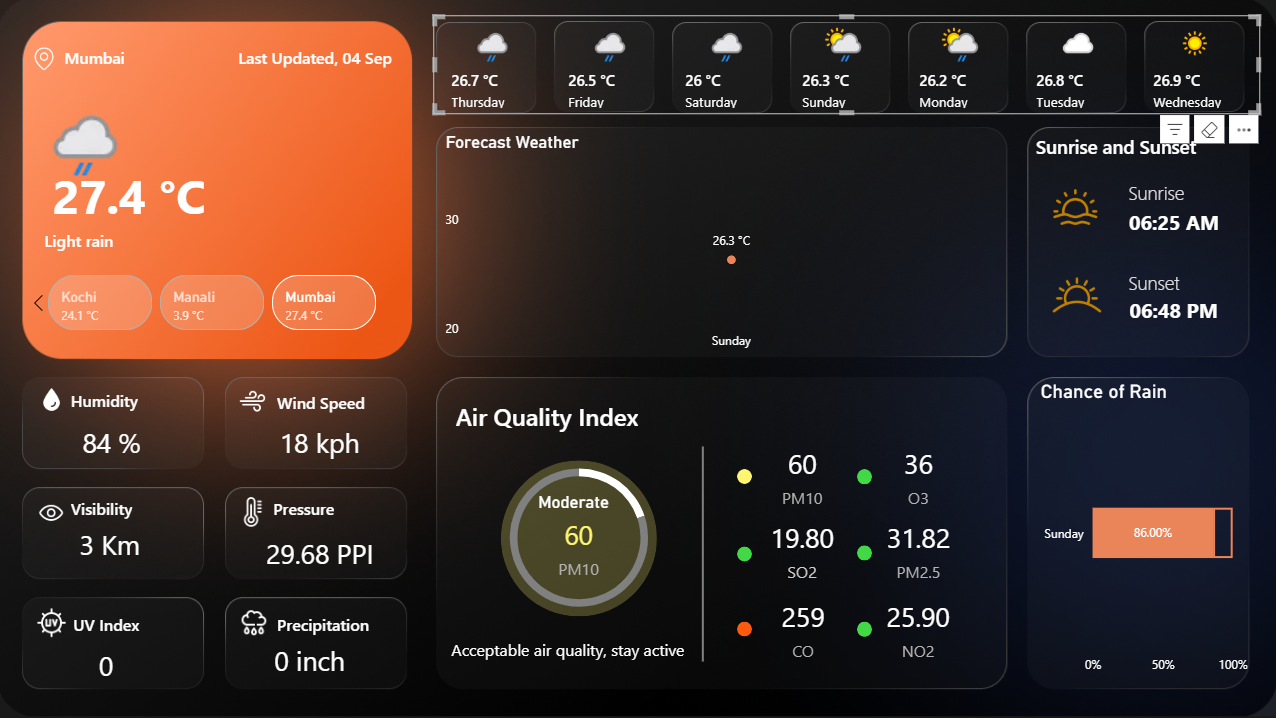

Layout of this report page (visuals, bound fields, positions):
{"tool":"powerbi","page":{"name":"Page 1","canvas":[1280,720],"ordinal":0},"visuals":[{"type":"advancedSlicerVisual","fields":{"Values":["Location.location.name"]},"box":[26.1,271.7,378.7,65.9],"z":0},{"type":"shape","box":[47.1,163.3,168.9,63.7],"z":1000},{"type":"shape","box":[47.1,227,155,27.7],"z":2000},{"type":"shape","box":[67.8,40.1,155,36],"z":3000},{"type":"shape","box":[240.8,44.3,164.7,27.7],"z":4000},{"type":"image","box":[26.3,44.3,41.5,31.8],"z":5000},{"type":"cardVisual","fields":{"Data":["Min(Current.current.condition.icon)"]},"box":[25.8,75.8,117.7,106.4],"z":6000},{"type":"image","box":[33.3,384.2,41.7,34.2],"z":7000},{"type":"image","box":[236.7,384.2,39.2,36.7],"z":8000},{"type":"image","box":[34.2,495,40,37.5],"z":9000},{"type":"image","box":[236.7,492.5,39.2,40],"z":10000},{"type":"image","box":[33.3,604.2,41.7,40],"z":11000},{"type":"image","box":[234.2,604.2,45.8,40],"z":12000},{"type":"shape","box":[74.2,387.5,69.2,27.5],"z":13000},{"type":"shape","box":[280,389.2,89.2,27.5],"z":14000},{"type":"shape","box":[74.2,495,69.2,27.5],"z":15000},{"type":"shape","box":[275.8,495,69.2,27.5],"z":16000},{"type":"shape","box":[75.8,610.8,69.2,27.5],"z":17000},{"type":"shape","box":[280,610.8,100,27.5],"z":18000},{"type":"card","fields":{"Values":["_Measures.Humidity_perc"]},"box":[74,419.7,81.5,49.8],"z":19000},{"type":"card","fields":{"Values":["_Measures.Wind_speed"]},"box":[265.7,419.7,113.2,49.8],"z":20000},{"type":"card","fields":{"Values":["_Measures.Pressure_per_inch"]},"box":[250.6,531.4,143.4,48.3],"z":21000},{"type":"card","fields":{"Values":["_Measures.Precip_per_in"]},"box":[264.2,638.6,98.1,48.3],"z":22000},{"type":"card","fields":{"Values":["Sum(Current.current.uv)"]},"box":[60.4,643.2,98.1,48.3],"z":23000},{"type":"card","fields":{"Values":["_Measures.visibility_km"]},"box":[63.4,522.4,98.1,48.3],"z":24000},{"type":"advancedSlicerVisual","fields":{"Values":["Forecast_Days.Day_Name"]},"box":[435.7,15.7,826.4,99.3],"z":25000},{"type":"lineChart","title":"Forecast Weather","fields":{"Y":["Sum(Forecast_Days.forecast.forecastday.day.avgtemp_c)"],"Category":["Forecast_Days.Day_Name"]},"box":[443.8,132.5,558.8,227.5],"z":26000},{"type":"shape","box":[1038.6,134.3,184.3,28.6],"z":27000},{"type":"shape","box":[1130.9,205.5,91.8,35.5],"z":28000},{"type":"shape","box":[1130.9,295.5,90.9,30.9],"z":29000},{"type":"shape","box":[1131.8,181.8,102.7,23.6],"z":30000},{"type":"shape","box":[1130.9,271.8,102.7,23.6],"z":31000},{"type":"image","box":[1047.3,181.8,60.9,53.6],"z":32000},{"type":"image","box":[1038.8,258.1,82.5,74.4],"z":33000},{"type":"hundredPercentStackedBarChart","title":"Chance of Rain","fields":{"Category":["Forecast_Days.Day_Name"],"Y":["Sum(Forecast_Days.forecast.forecastday.day.daily_chance_of_rain)","Current.Left_Value_Rain"]},"box":[1038.6,381.4,217.1,302.9],"z":34000},{"type":"shape","box":[458.6,390,195.7,54.3],"z":35000},{"type":"card","fields":{"Values":["Sum(Current.current.air_quality.pm10)"]},"box":[762.9,440,85.7,74.3],"z":36000},{"type":"card","fields":{"Values":["Sum(Current.current.air_quality.o3)"]},"box":[878.6,440,85.7,74.3],"z":37000},{"type":"card","fields":{"Values":["Sum(Current.current.air_quality.pm2_5)"]},"box":[878.6,514.3,85.7,74.3],"z":38000},{"type":"card","fields":{"Values":["Sum(Current.current.air_quality.so2)"]},"box":[762.9,514.3,85.7,74.3],"z":39000},{"type":"card","fields":{"Values":["Sum(Current.current.air_quality.co)"]},"box":[755.7,592.9,100,74.3],"z":40000},{"type":"card","fields":{"Values":["Sum(Current.current.air_quality.no2)"]},"box":[871.4,592.9,100,74.3],"z":41000},{"type":"shape","box":[740.6,470,15,15],"z":42000},{"type":"shape","box":[859.4,469.4,15,15.6],"z":43000},{"type":"shape","box":[859.4,546.7,15,15.6],"z":44000},{"type":"shape","box":[740.6,547.2,15,15],"z":45000},{"type":"shape","box":[740.6,622.8,15,15],"z":46000},{"type":"shape","box":[859.4,622.2,15,15.6],"z":47000},{"type":"shape","box":[640,447.5,131.7,215],"z":48000},{"type":"shape","box":[503.6,460.9,156.4,156.4],"z":48500},{"type":"card","fields":{"Values":["Sum(Current.current.air_quality.pm10)"]},"box":[536.4,492.7,90.9,91.8],"z":49000},{"type":"donutChart","fields":{"Y":["Sum(Current.current.air_quality.pm10)","_Measures.LEFT_VALUE_PM10"]},"box":[480.9,447.3,201.8,182.7],"z":50000},{"type":"shape","box":[450,622.7,241.8,54.5],"z":50001}]}

Visuals, with their boxes in screenshot pixels (x1, y1, x2, y2), scaled from the page's 1280x720 canvas onto the 1276x718 screenshot:
advancedSlicerVisual - Location.location.name: bbox(26, 271, 404, 337)
shape: bbox(47, 163, 215, 226)
shape: bbox(47, 226, 201, 254)
shape: bbox(68, 40, 222, 76)
shape: bbox(240, 44, 404, 72)
image: bbox(26, 44, 68, 76)
cardVisual - Min(Current.current.condition.icon): bbox(26, 76, 143, 182)
image: bbox(33, 383, 75, 417)
image: bbox(236, 383, 275, 420)
image: bbox(34, 494, 74, 531)
image: bbox(236, 491, 275, 531)
image: bbox(33, 603, 75, 642)
image: bbox(233, 603, 279, 642)
shape: bbox(74, 386, 143, 414)
shape: bbox(279, 388, 368, 416)
shape: bbox(74, 494, 143, 521)
shape: bbox(275, 494, 344, 521)
shape: bbox(76, 609, 145, 637)
shape: bbox(279, 609, 379, 637)
card - _Measures.Humidity_perc: bbox(74, 419, 155, 468)
card - _Measures.Wind_speed: bbox(265, 419, 378, 468)
card - _Measures.Pressure_per_inch: bbox(250, 530, 393, 578)
card - _Measures.Precip_per_in: bbox(263, 637, 361, 685)
card - Sum(Current.current.uv): bbox(60, 641, 158, 690)
card - _Measures.visibility_km: bbox(63, 521, 161, 569)
advancedSlicerVisual - Forecast_Days.Day_Name: bbox(434, 16, 1258, 115)
"Forecast Weather" lineChart: bbox(442, 132, 999, 359)
shape: bbox(1035, 134, 1219, 162)
shape: bbox(1127, 205, 1219, 240)
shape: bbox(1127, 295, 1218, 325)
shape: bbox(1128, 181, 1231, 205)
shape: bbox(1127, 271, 1230, 295)
image: bbox(1044, 181, 1105, 235)
image: bbox(1036, 257, 1118, 332)
"Chance of Rain" hundredPercentStackedBarChart: bbox(1035, 380, 1252, 682)
shape: bbox(457, 389, 652, 443)
card - Sum(Current.current.air_quality.pm10): bbox(761, 439, 846, 513)
card - Sum(Current.current.air_quality.o3): bbox(876, 439, 961, 513)
card - Sum(Current.current.air_quality.pm2_5): bbox(876, 513, 961, 587)
card - Sum(Current.current.air_quality.so2): bbox(761, 513, 846, 587)
card - Sum(Current.current.air_quality.co): bbox(753, 591, 853, 665)
card - Sum(Current.current.air_quality.no2): bbox(869, 591, 968, 665)
shape: bbox(738, 469, 753, 484)
shape: bbox(857, 468, 872, 484)
shape: bbox(857, 545, 872, 561)
shape: bbox(738, 546, 753, 561)
shape: bbox(738, 621, 753, 636)
shape: bbox(857, 620, 872, 636)
shape: bbox(638, 446, 769, 661)
shape: bbox(502, 460, 658, 616)
card - Sum(Current.current.air_quality.pm10): bbox(535, 491, 625, 583)
donutChart - Sum(Current.current.air_quality.pm10) x _Measures.LEFT_VALUE_PM10: bbox(479, 446, 681, 628)
shape: bbox(449, 621, 690, 675)
